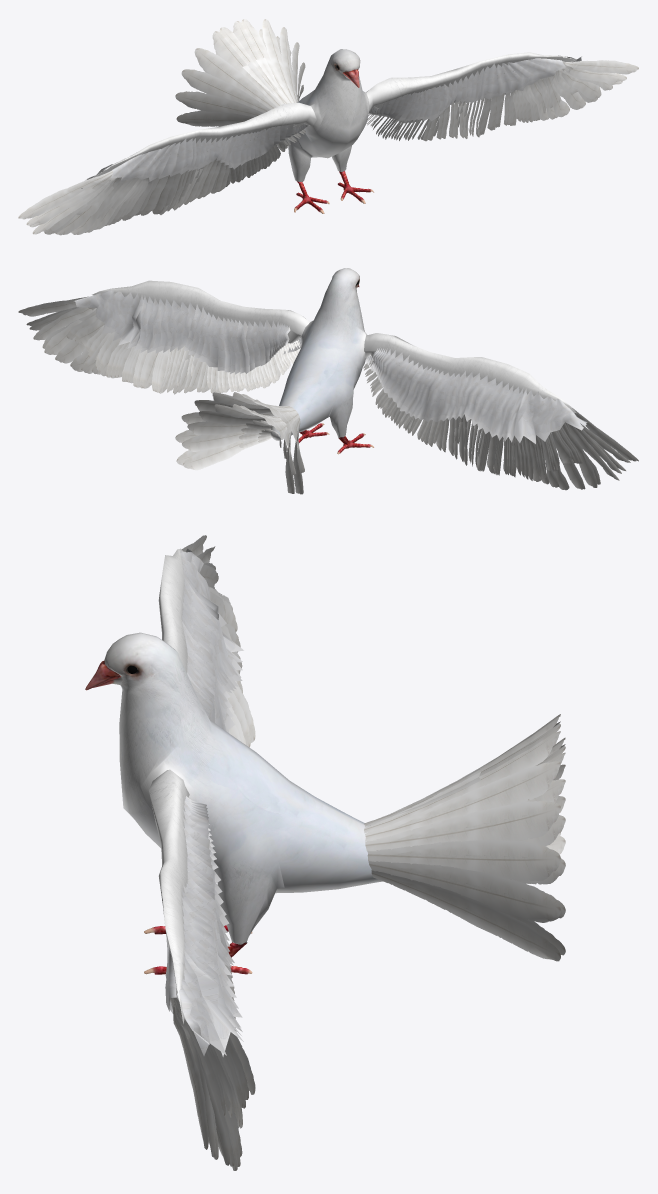
Rendered from ave2.obj.
The picture shows the model from 3 angles, top to bottom: view 1: azimuth 30°, elevation 25°; view 2: azimuth 150°, elevation 25°; view 3: azimuth 270°, elevation 25°; orthographic projection. The views are drawn at different scales.
Visible parts, largest first — view 1: Pigeon:polySurface41; view 2: Pigeon:polySurface41; view 3: Pigeon:polySurface41.
Part boxes in pixels (x1,y1,x2,y2): Pigeon:polySurface41: (18, 19, 638, 235); Pigeon:polySurface41: (18, 268, 638, 494); Pigeon:polySurface41: (85, 535, 565, 1170).
Bounding box in the file's own units: 2.55 × 0.6214 × 0.853.
